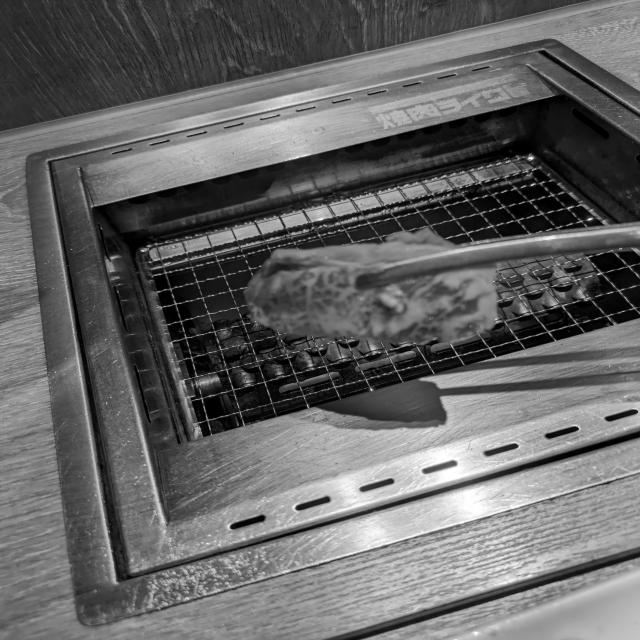NG raw beef,: (233, 224, 508, 352)
